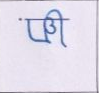i_matra: (52, 9, 67, 47)
